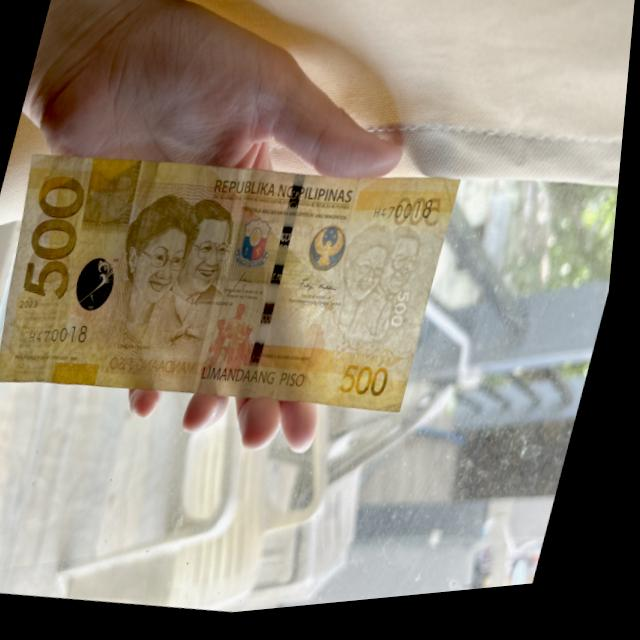concealed_value: (79, 159, 141, 237)
optically_variable_device: (72, 257, 123, 319)
see_through_mark: (335, 344, 409, 381)
value_watermark: (392, 298, 416, 341)
watermark: (324, 208, 447, 368)
